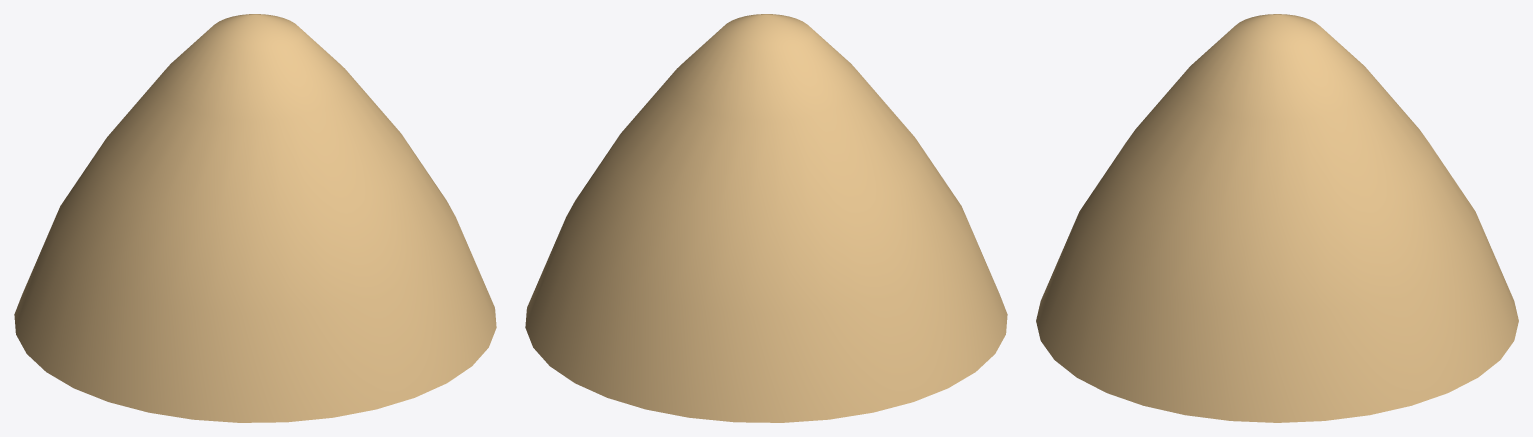
The model's file is CastleTop.fbx.
3 renders of one model, left to right at view 1: azimuth 30°, elevation 25°; view 2: azimuth 150°, elevation 25°; view 3: azimuth 270°, elevation 25°, orthographic.
Parts seen in each view (by area): view 1: Cylinder.073; view 2: Cylinder.073; view 3: Cylinder.073.
Part boxes in pixels (box(x1,y1,x2,y2)): Cylinder.073: box(14, 14, 496, 422); Cylinder.073: box(525, 14, 1007, 422); Cylinder.073: box(1036, 14, 1518, 422).
Size of the model in its own units: 296 by 207 by 296.
